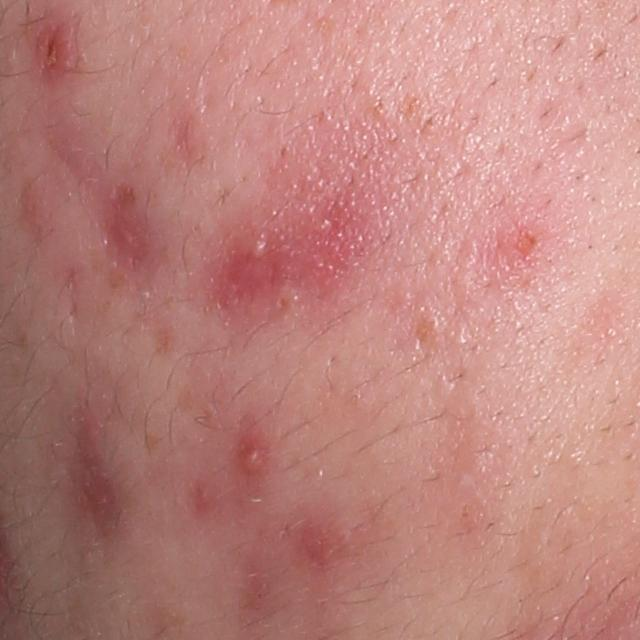atrophic_scar: (48, 430, 126, 538), (97, 176, 167, 275)
papule: (30, 16, 76, 86), (235, 429, 263, 480)
